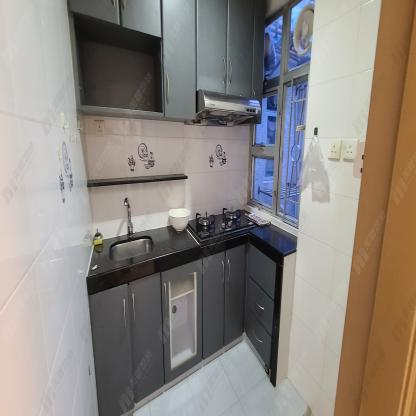Cupboard: (196, 0, 255, 98), (162, 0, 197, 126)
Exhaust Hood: (196, 88, 261, 129)
Faucet: (119, 192, 135, 237)
Sink: (104, 229, 161, 271)
Stove: (187, 203, 256, 248)
